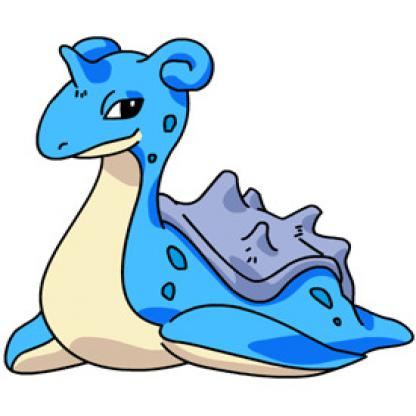Lapras: (17, 46, 390, 377)
